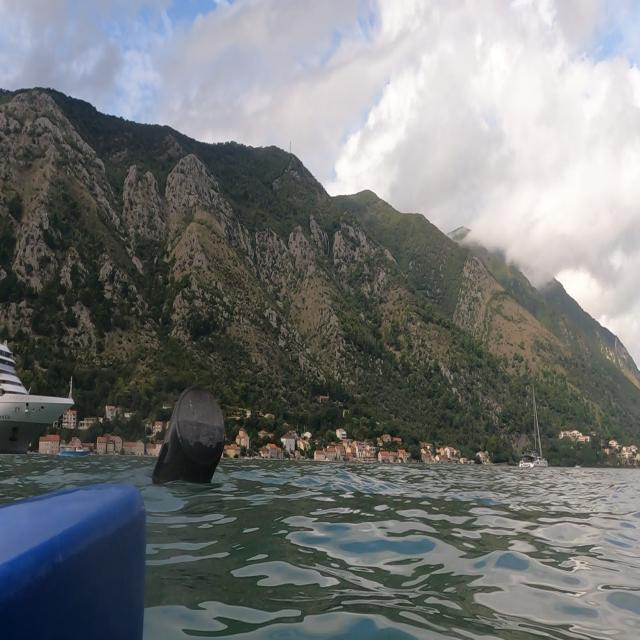boat: (0, 327, 82, 465), (512, 374, 558, 484)
buoy: (144, 376, 238, 504)
